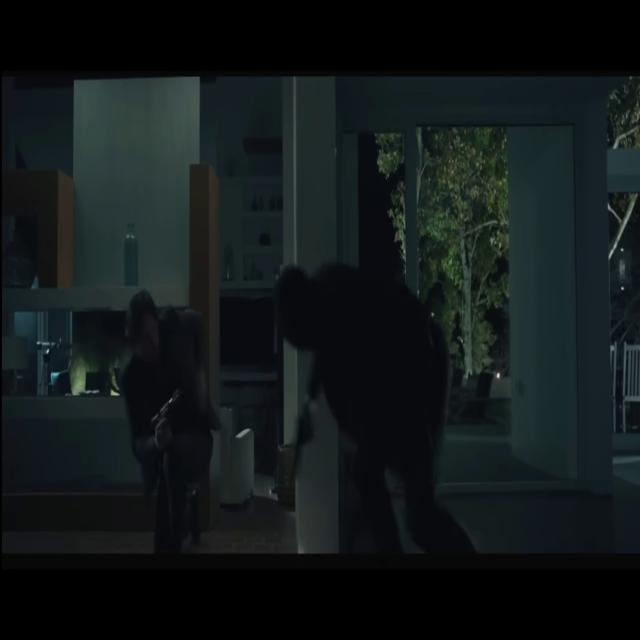weapons: (144, 376, 192, 477)
